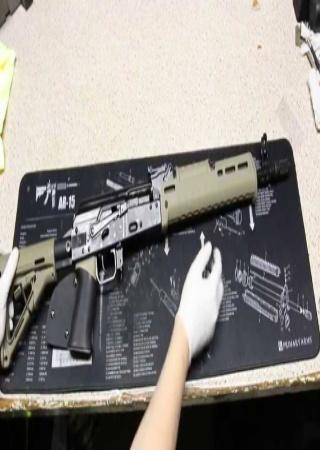weapon: (0, 132, 293, 369)
